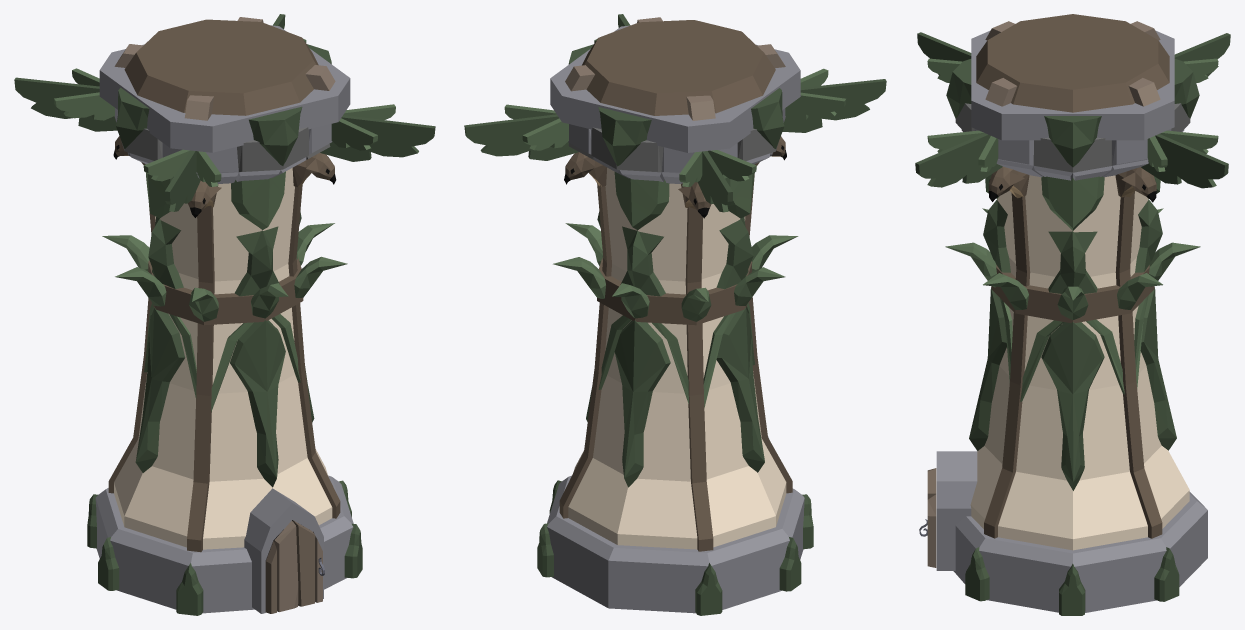
The model's file is Ballista_Tower_Body_LV4.fbx.
3 views of the same model, side by side, from view 1: azimuth 30°, elevation 25°; view 2: azimuth 150°, elevation 25°; view 3: azimuth 270°, elevation 25° (orthographic).
Visible parts, largest first — view 1: Ballista_tower_LVL_4.001; view 2: Ballista_tower_LVL_4.001; view 3: Ballista_tower_LVL_4.001.
Boxes of the visible parts, bbox=[...] form: Ballista_tower_LVL_4.001: bbox=[14, 14, 435, 615]; Ballista_tower_LVL_4.001: bbox=[464, 14, 886, 615]; Ballista_tower_LVL_4.001: bbox=[915, 14, 1230, 615].
Size of the model in its own units: 662 by 1172 by 662.
